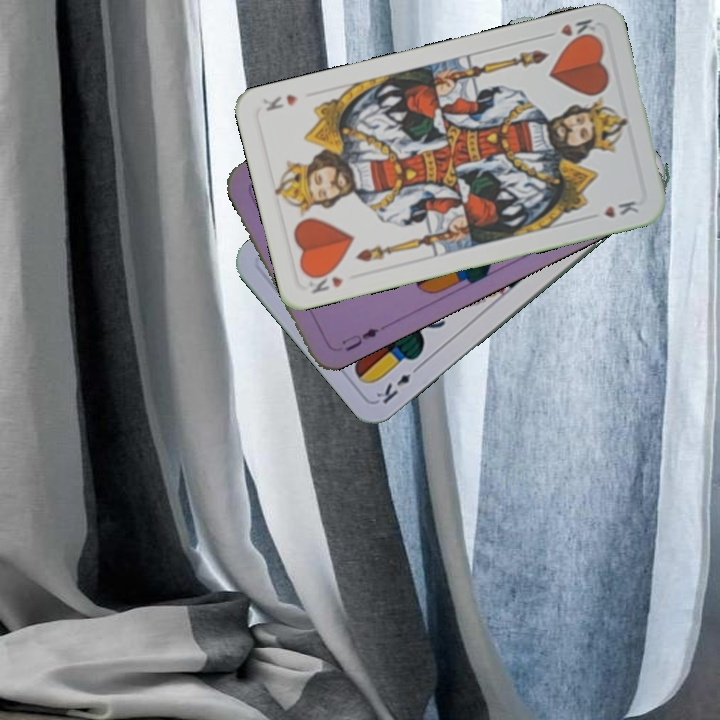EK: (372, 360, 423, 407)
EU: (338, 323, 382, 354)
HK: (556, 14, 601, 45), (303, 266, 346, 297)
